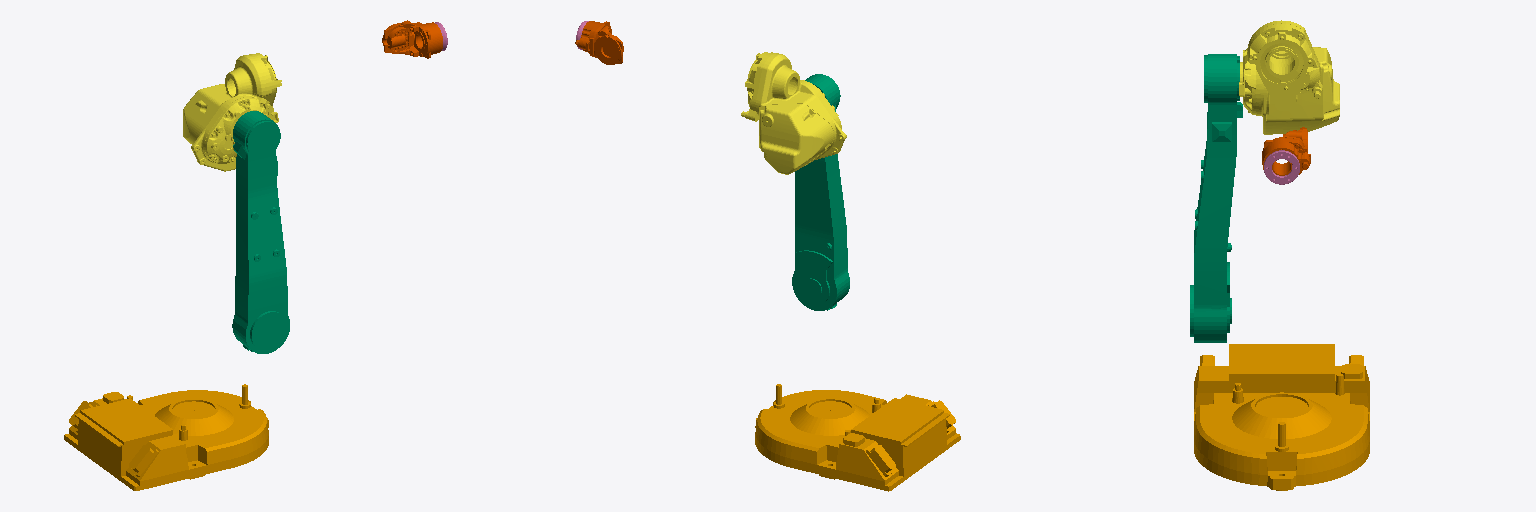
robot.urdf — IRB1660ID_4-155:
<?xml version="1.0" ?>
<robot name="IRB1660ID_4-155">

<link name="base_link">
  <inertial>
    <origin xyz="-0.1003738362293975 0.0003904996391944617 0.06162281571001135" rpy="0 0 0"/>
    <mass value="226.66046001458722"/>
    <inertia ixx="3.834286" iyy="6.602098" izz="9.835858" ixy="0.010367" iyz="-0.007082" ixz="0.316535"/>
  </inertial>
  <visual>
    <origin xyz="0 0 0" rpy="0 0 0"/>
    <geometry>
      <mesh filename="package://IRB1660ID_4-155_description/meshes/base_link.stl" scale="0.001 0.001 0.001"/>
    </geometry>
    <material name="silver"/>
  </visual>
  <collision>
    <origin xyz="0 0 0" rpy="0 0 0"/>
    <geometry>
      <mesh filename="package://IRB1660ID_4-155_description/meshes/base_link.stl" scale="0.001 0.001 0.001"/>
    </geometry>
  </collision>
</link>

<link name="IRB1660ID_4-155_IRC5_rev0_LINK1_1">
  <inertial>
    <origin xyz="0.0520000507018685 -0.012049415312310909 0.2193439539811779" rpy="0 0 0"/>
    <mass value="317.69684202291194"/>
    <inertia ixx="6.737689" iyy="11.071043" izz="7.812967" ixy="0.545417" iyz="0.759305" ixz="-2.197749"/>
  </inertial>
  <visual>
    <origin xyz="0.0 -0.0 -0.1245" rpy="0 0 0"/>
    <geometry>
      <mesh filename="package://IRB1660ID_4-155_description/meshes/IRB1660ID_4-155_IRC5_rev0_LINK1_1.stl" scale="0.001 0.001 0.001"/>
    </geometry>
    <material name="silver"/>
  </visual>
  <collision>
    <origin xyz="0.0 -0.0 -0.1245" rpy="0 0 0"/>
    <geometry>
      <mesh filename="package://IRB1660ID_4-155_description/meshes/IRB1660ID_4-155_IRC5_rev0_LINK1_1.stl" scale="0.001 0.001 0.001"/>
    </geometry>
  </collision>
</link>

<link name="IRB1660ID_4-155_IRC5_rev0_LINK2_1">
  <inertial>
    <origin xyz="1.7889398772646947e-05 -0.043199379730273546 0.3049481444767939" rpy="0 0 0"/>
    <mass value="82.17295843094206"/>
    <inertia ixx="5.141635" iyy="5.197401" izz="0.205841" ixy="8.6e-05" iyz="-0.271806" ixz="-0.001416"/>
  </inertial>
  <visual>
    <origin xyz="-0.15 0.1395 -0.4865" rpy="0 0 0"/>
    <geometry>
      <mesh filename="package://IRB1660ID_4-155_description/meshes/IRB1660ID_4-155_IRC5_rev0_LINK2_1.stl" scale="0.001 0.001 0.001"/>
    </geometry>
    <material name="silver"/>
  </visual>
  <collision>
    <origin xyz="-0.15 0.1395 -0.4865" rpy="0 0 0"/>
    <geometry>
      <mesh filename="package://IRB1660ID_4-155_description/meshes/IRB1660ID_4-155_IRC5_rev0_LINK2_1.stl" scale="0.001 0.001 0.001"/>
    </geometry>
  </collision>
</link>

<link name="IRB1660ID_4-155_IRC5_rev0_LINK3_1">
  <inertial>
    <origin xyz="-0.00975322497432718 0.1306697323100055 -0.014796926202451877" rpy="0 0 0"/>
    <mass value="88.1501965248953"/>
    <inertia ixx="0.927005" iyy="0.954605" izz="0.767549" ixy="0.025051" iyz="0.069611" ixz="-0.232066"/>
  </inertial>
  <visual>
    <origin xyz="-0.15 0.113 -1.1865" rpy="0 0 0"/>
    <geometry>
      <mesh filename="package://IRB1660ID_4-155_description/meshes/IRB1660ID_4-155_IRC5_rev0_LINK3_1.stl" scale="0.001 0.001 0.001"/>
    </geometry>
    <material name="silver"/>
  </visual>
  <collision>
    <origin xyz="-0.15 0.113 -1.1865" rpy="0 0 0"/>
    <geometry>
      <mesh filename="package://IRB1660ID_4-155_description/meshes/IRB1660ID_4-155_IRC5_rev0_LINK3_1.stl" scale="0.001 0.001 0.001"/>
    </geometry>
  </collision>
</link>

<link name="IRB1660ID_4-155_IRC5_rev0_LINK4_1">
  <inertial>
    <origin xyz="0.2560781548240011 0.08462048543487383 -0.0011177552455250428" rpy="0 0 0"/>
    <mass value="66.8940707299574"/>
    <inertia ixx="0.266282" iyy="2.056301" izz="2.154479" ixy="-0.281281" iyz="0.002242" ixz="-0.007326"/>
  </inertial>
  <visual>
    <origin xyz="-0.272 -0.0 -1.2965" rpy="0 0 0"/>
    <geometry>
      <mesh filename="package://IRB1660ID_4-155_description/meshes/IRB1660ID_4-155_IRC5_rev0_LINK4_1.stl" scale="0.001 0.001 0.001"/>
    </geometry>
    <material name="silver"/>
  </visual>
  <collision>
    <origin xyz="-0.272 -0.0 -1.2965" rpy="0 0 0"/>
    <geometry>
      <mesh filename="package://IRB1660ID_4-155_description/meshes/IRB1660ID_4-155_IRC5_rev0_LINK4_1.stl" scale="0.001 0.001 0.001"/>
    </geometry>
  </collision>
</link>

<link name="IRB1660ID_4-155_IRC5_rev0_LINK5_1">
  <inertial>
    <origin xyz="0.05423388364822512 -0.05726744280499768 0.0005318844187989225" rpy="0 0 0"/>
    <mass value="6.74288235299308"/>
    <inertia ixx="0.013982" iyy="0.018282" izz="0.020307" ixy="0.005325" iyz="-4.8e-05" ixz="7.9e-05"/>
  </inertial>
  <visual>
    <origin xyz="-0.828 -0.08 -1.2965" rpy="0 0 0"/>
    <geometry>
      <mesh filename="package://IRB1660ID_4-155_description/meshes/IRB1660ID_4-155_IRC5_rev0_LINK5_1.stl" scale="0.001 0.001 0.001"/>
    </geometry>
    <material name="silver"/>
  </visual>
  <collision>
    <origin xyz="-0.828 -0.08 -1.2965" rpy="0 0 0"/>
    <geometry>
      <mesh filename="package://IRB1660ID_4-155_description/meshes/IRB1660ID_4-155_IRC5_rev0_LINK5_1.stl" scale="0.001 0.001 0.001"/>
    </geometry>
  </collision>
</link>

<link name="IRB1660ID_4-155_IRC5_rev0_LINK6_1">
  <inertial>
    <origin xyz="0.0018152042894696852 -0.00019807212694429702 -0.0003109044193350119" rpy="0 0 0"/>
    <mass value="0.6642023421401526"/>
    <inertia ixx="0.001053" iyy="0.000544" izz="0.000547" ixy="0.0" iyz="2e-06" ixz="1e-06"/>
  </inertial>
  <visual>
    <origin xyz="-0.9525 -0.0 -1.2965" rpy="0 0 0"/>
    <geometry>
      <mesh filename="package://IRB1660ID_4-155_description/meshes/IRB1660ID_4-155_IRC5_rev0_LINK6_1.stl" scale="0.001 0.001 0.001"/>
    </geometry>
    <material name="silver"/>
  </visual>
  <collision>
    <origin xyz="-0.9525 -0.0 -1.2965" rpy="0 0 0"/>
    <geometry>
      <mesh filename="package://IRB1660ID_4-155_description/meshes/IRB1660ID_4-155_IRC5_rev0_LINK6_1.stl" scale="0.001 0.001 0.001"/>
    </geometry>
  </collision>
</link>

<joint name="j1" type="continuous">
  <origin xyz="0.0 0.0 0.1245" rpy="0 0 0"/>
  <parent link="base_link"/>
  <child link="IRB1660ID_4-155_IRC5_rev0_LINK1_1"/>
  <axis xyz="0.0 0.0 1.0"/>
</joint>

<joint name="j2" type="continuous">
  <origin xyz="0.15 -0.1395 0.362" rpy="0 0 0"/>
  <parent link="IRB1660ID_4-155_IRC5_rev0_LINK1_1"/>
  <child link="IRB1660ID_4-155_IRC5_rev0_LINK2_1"/>
  <axis xyz="0.0 -1.0 0.0"/>
</joint>

<joint name="j3" type="continuous">
  <origin xyz="0.0 0.0265 0.7" rpy="0 0 0"/>
  <parent link="IRB1660ID_4-155_IRC5_rev0_LINK2_1"/>
  <child link="IRB1660ID_4-155_IRC5_rev0_LINK3_1"/>
  <axis xyz="0.0 -1.0 0.0"/>
</joint>

<joint name="j4" type="continuous">
  <origin xyz="0.122 0.113 0.11" rpy="0 0 0"/>
  <parent link="IRB1660ID_4-155_IRC5_rev0_LINK3_1"/>
  <child link="IRB1660ID_4-155_IRC5_rev0_LINK4_1"/>
  <axis xyz="-1.0 0.0 0.0"/>
</joint>

<joint name="j5" type="continuous">
  <origin xyz="0.556 0.08 0.0" rpy="0 0 0"/>
  <parent link="IRB1660ID_4-155_IRC5_rev0_LINK4_1"/>
  <child link="IRB1660ID_4-155_IRC5_rev0_LINK5_1"/>
  <axis xyz="0.0 -1.0 0.0"/>
</joint>

<joint name="j6" type="continuous">
  <origin xyz="0.1245 -0.08 0.0" rpy="0 0 0"/>
  <parent link="IRB1660ID_4-155_IRC5_rev0_LINK5_1"/>
  <child link="IRB1660ID_4-155_IRC5_rev0_LINK6_1"/>
  <axis xyz="-1.0 -0.0 -0.0"/>
</joint>

</robot>

--- Facts derived from the render (not from the file) ---
Views: 3 orthographic renders of the robot side by side, from view 1: azimuth 30°, elevation 25°; view 2: azimuth 150°, elevation 25°; view 3: azimuth 270°, elevation 25°.
Robot: IRB1660ID_4-155 — 7 links, 6 joints (6 continuous); root link base_link; default pose: all joints at 0.
Visible links, largest first — view 1: base_link, IRB1660ID_4-155_IRC5_rev0_LINK2_1, IRB1660ID_4-155_IRC5_rev0_LINK3_1, IRB1660ID_4-155_IRC5_rev0_LINK5_1; view 2: base_link, IRB1660ID_4-155_IRC5_rev0_LINK2_1, IRB1660ID_4-155_IRC5_rev0_LINK3_1, IRB1660ID_4-155_IRC5_rev0_LINK5_1; view 3: base_link, IRB1660ID_4-155_IRC5_rev0_LINK2_1, IRB1660ID_4-155_IRC5_rev0_LINK3_1, IRB1660ID_4-155_IRC5_rev0_LINK5_1, IRB1660ID_4-155_IRC5_rev0_LINK6_1.
Link boxes in pixels (left/top/right/bottom): base_link: left=64, top=384, right=268, bottom=490; IRB1660ID_4-155_IRC5_rev0_LINK2_1: left=232, top=111, right=289, bottom=353; IRB1660ID_4-155_IRC5_rev0_LINK3_1: left=183, top=53, right=281, bottom=171; IRB1660ID_4-155_IRC5_rev0_LINK5_1: left=382, top=20, right=442, bottom=58; base_link: left=755, top=384, right=960, bottom=491; IRB1660ID_4-155_IRC5_rev0_LINK2_1: left=792, top=74, right=849, bottom=310; IRB1660ID_4-155_IRC5_rev0_LINK3_1: left=741, top=52, right=846, bottom=174; IRB1660ID_4-155_IRC5_rev0_LINK5_1: left=575, top=21, right=623, bottom=64; base_link: left=1194, top=344, right=1369, bottom=490; IRB1660ID_4-155_IRC5_rev0_LINK2_1: left=1190, top=54, right=1242, bottom=342; IRB1660ID_4-155_IRC5_rev0_LINK3_1: left=1239, top=20, right=1339, bottom=134; IRB1660ID_4-155_IRC5_rev0_LINK5_1: left=1262, top=127, right=1310, bottom=175; IRB1660ID_4-155_IRC5_rev0_LINK6_1: left=1264, top=150, right=1299, bottom=184.
Size in the robot's own frame: 1.35 by 0.4943 by 1.39 metres.
Meshes: 7 distinct files referenced, 5 mesh visuals loaded (5 binary STL); not drawn: 2 (reference not matched to a file when rendering).
